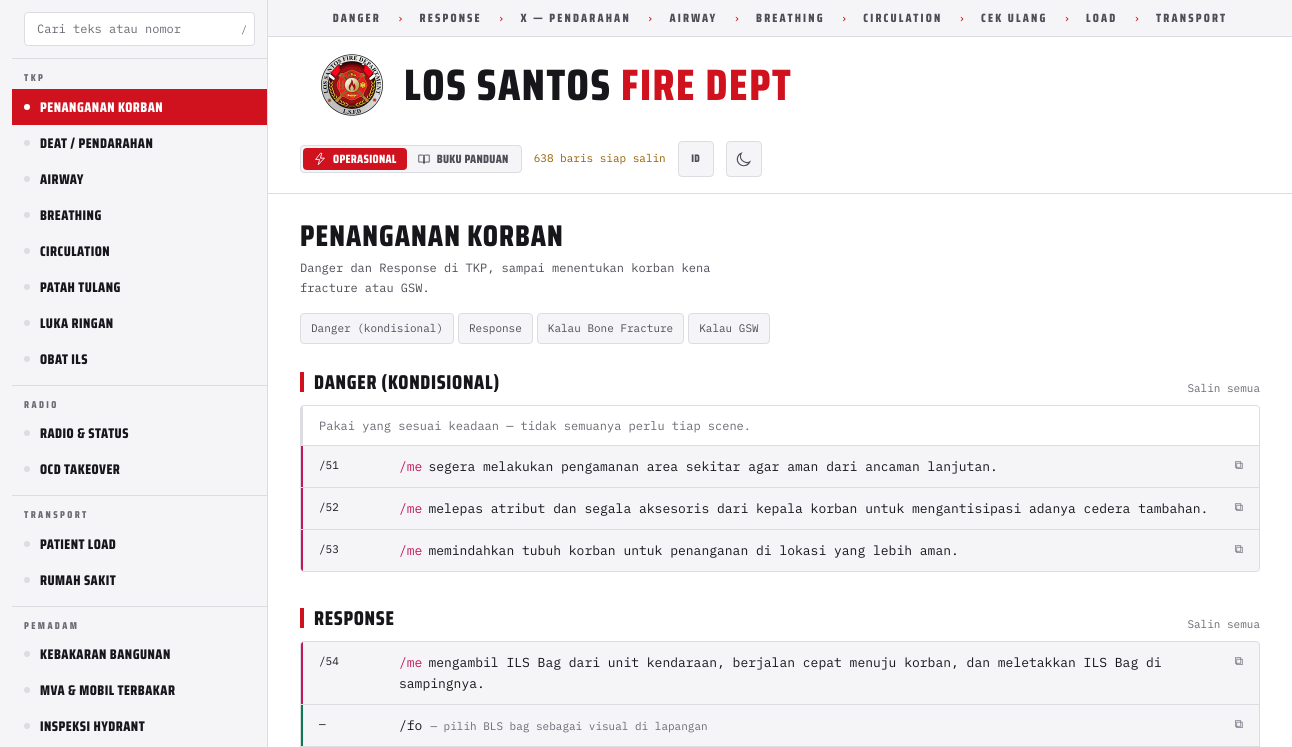
render halaman › penanda salin pindah ke baris yang diklik dan tidak nyangkut di baris lama
The width and height of the screenshot is (1292, 747).
Click the button titled "Klik untuk menyalin": (781, 466) [303,446,1259,487]
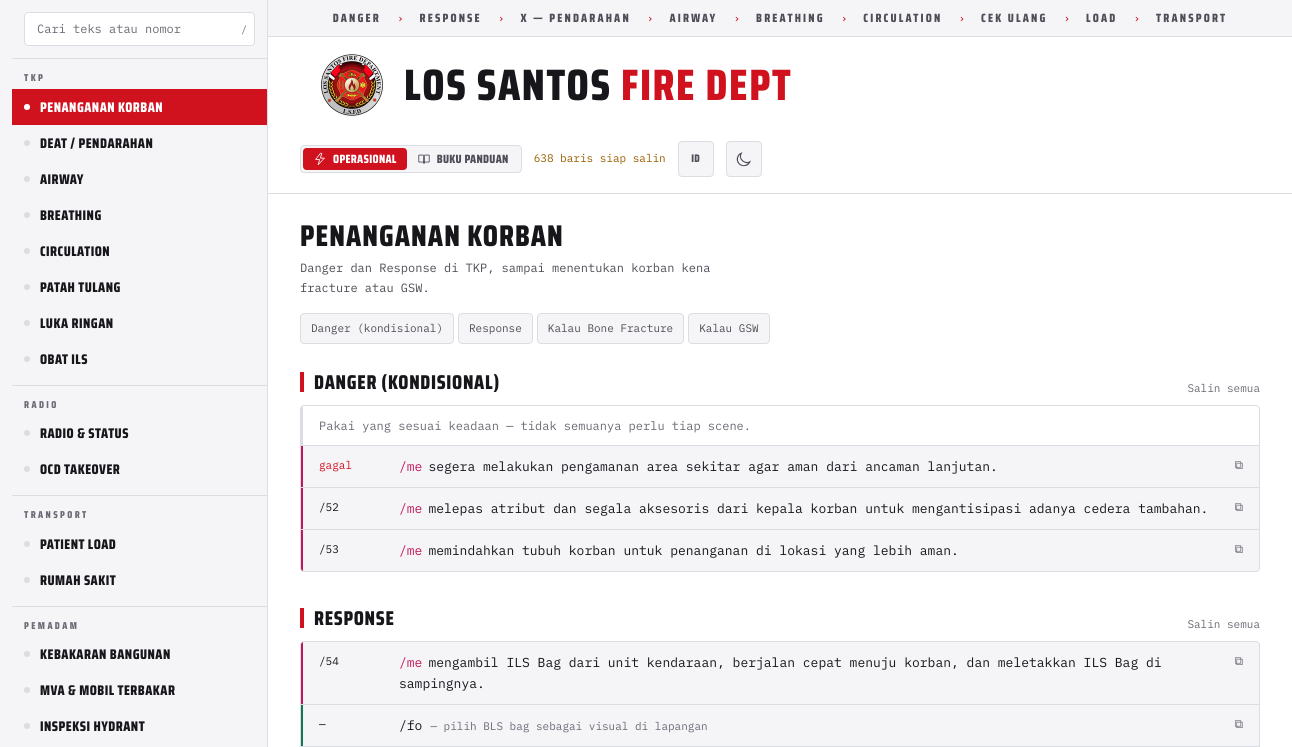
expect the button "/51" no longer shows "/51": met
Click the button titled "Klik untuk menyalin": (781, 508) [303,488,1259,529]
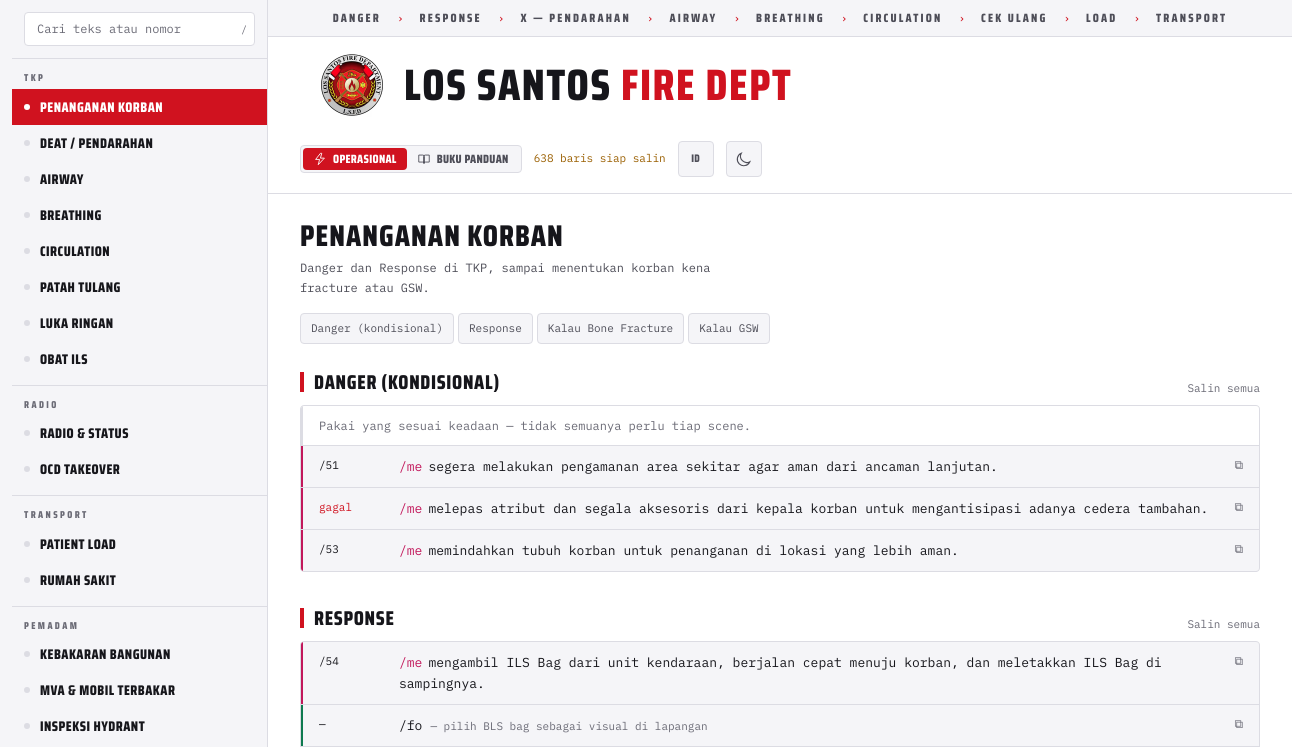
expect the button "/52" no longer shows "/52": met
